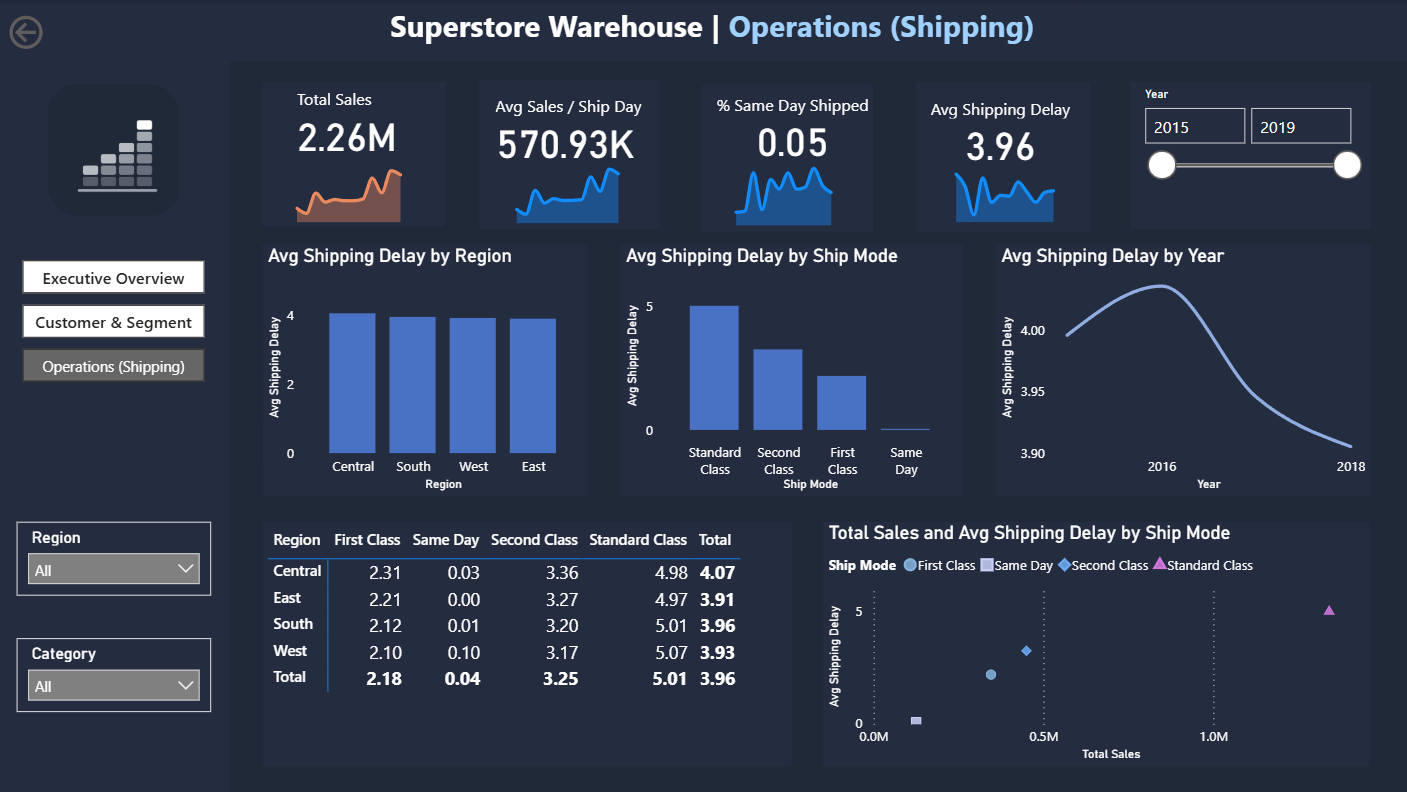

Layout of this report page (visuals, bound fields, positions):
{"tool":"powerbi","page":{"name":"Operations (Shipping)","canvas":[1280,720],"ordinal":2},"visuals":[{"type":"shape","box":[0,51.1,210,668.3],"z":0},{"type":"shape","box":[435.9,72.4,163,134.5],"z":0,"group":"g2"},{"type":"shape","box":[831.7,73.8,157.3,136],"z":0,"group":"g4"},{"type":"shape","box":[239,74.4,165.4,130.6],"z":0,"group":"g5"},{"type":"shape","box":[637.6,76.4,154.5,133.4],"z":0,"group":"g3"},{"type":"group","id":"g1","title":"Group 3","box":[0,0,1287.1,55.7],"z":1000},{"type":"shape","box":[0,0,1287.1,55.7],"z":1000,"group":"g1"},{"type":"cardVisual","fields":{"Data":["fact_sales.Total Sales"]},"box":[257.4,71.2,129.3,80.4],"z":1000,"group":"g5"},{"type":"cardVisual","fields":{"Data":["fact_sales.% Same Day Shipped"]},"box":[631.9,73.8,166,85],"z":1000,"group":"g3"},{"type":"cardVisual","fields":{"Data":["fact_sales.Avg Sales per Shipping Day"]},"box":[437.3,77.8,160.3,79.1],"z":1000,"group":"g2"},{"type":"cardVisual","fields":{"Data":["fact_sales.Avg Shipping Delay"]},"box":[828.5,77.8,149.9,83.3],"z":1000,"group":"g4"},{"type":"textbox","box":[350.7,0,629,55.4],"z":2000,"group":"g1"},{"type":"areaChart","fields":{"Category":["dim_date.month"],"Y":["fact_sales.Avg Shipping Delay"]},"box":[844.4,130.3,150.1,76.2],"z":2000,"group":"g4"},{"type":"areaChart","fields":{"Category":["dim_date.month"],"Y":["fact_sales.Avg Sales per Shipping Day"]},"box":[445.7,132,155.6,75.4],"z":2000,"group":"g2"},{"type":"areaChart","fields":{"Category":["dim_date.month"],"Y":["fact_sales.Total Sales"]},"box":[247.4,133.6,157.9,73.2],"z":2000,"group":"g5"},{"type":"areaChart","fields":{"Category":["dim_date.month"],"Y":["fact_sales.% Same Day Shipped"]},"box":[645.1,134.5,147.5,74.8],"z":2000,"group":"g3"},{"type":"columnChart","fields":{"Category":["dim_location.Region"],"Y":["fact_sales.Avg Shipping Delay"]},"box":[239,221.6,294.4,228],"z":2000},{"type":"columnChart","fields":{"Category":["fact_sales.Ship Mode"],"Y":["fact_sales.Avg Shipping Delay"]},"box":[563.6,221.3,310.3,228],"z":3000},{"type":"scatterChart","fields":{"Series":["fact_sales.Ship Mode"],"X":["fact_sales.Total Sales"],"Y":["fact_sales.Avg Shipping Delay"]},"box":[747.1,472.5,495.5,221.5],"z":4000},{"type":"slicer","fields":{"Values":["dim_location.Region"]},"box":[16.9,472.5,176,66.7],"z":5000},{"type":"slicer","fields":{"Values":["dim_date.year"]},"box":[1025.6,74.2,217.4,132.8],"z":6000},{"type":"slicer","fields":{"Values":["dim_product.Category"]},"box":[16.9,577.9,176,66.7],"z":7000},{"type":"pageNavigator","box":[22.1,235.6,165.7,110],"z":8000},{"type":"group","id":"g2","title":"Group 1","box":[435.9,72.4,166.1,136.3],"z":9000},{"type":"group","id":"g3","title":"Group 1","box":[631.9,73.8,166.1,136.3],"z":10000},{"type":"group","id":"g4","title":"Group 1","box":[828.5,73.8,166.1,136.3],"z":11000},{"type":"group","id":"g5","title":"Group 2","box":[239,71.2,166,136],"z":12000},{"type":"actionButton","box":[5.7,8.5,100,40],"z":13000},{"type":"pivotTable","fields":{"Columns":["fact_sales.Ship Mode"],"Rows":["dim_location.Region"],"Values":["fact_sales.Avg Shipping Delay"]},"box":[239.5,472.5,479,221.3],"z":14000},{"type":"lineChart","fields":{"Category":["dim_date.year"],"Y":["fact_sales.Avg Shipping Delay"]},"box":[903.3,221.3,339.7,227.8],"z":15000},{"type":"image","box":[29.9,71.6,149.7,128.9],"z":16000}]}

Visuals, with their boxes in screenshot pixels (x1, y1, x2, y2), scaled from the page's 1280x720 canvas onto the 1407x792 screenshot:
shape: l=0, t=56, r=231, b=791
shape: l=479, t=80, r=658, b=228
shape: l=914, t=81, r=1087, b=231
shape: l=263, t=82, r=445, b=226
shape: l=701, t=84, r=871, b=231
"Group 3" group: l=0, t=0, r=1406, b=61
shape: l=0, t=0, r=1406, b=61
cardVisual - fact_sales.Total Sales: l=283, t=78, r=425, b=167
cardVisual - fact_sales.% Same Day Shipped: l=695, t=81, r=877, b=175
cardVisual - fact_sales.Avg Sales per Shipping Day: l=481, t=86, r=657, b=173
cardVisual - fact_sales.Avg Shipping Delay: l=911, t=86, r=1075, b=177
textbox: l=385, t=0, r=1077, b=61
areaChart - dim_date.month x fact_sales.Avg Shipping Delay: l=928, t=143, r=1093, b=227
areaChart - dim_date.month x fact_sales.Avg Sales per Shipping Day: l=490, t=145, r=661, b=228
areaChart - dim_date.month x fact_sales.Total Sales: l=272, t=147, r=446, b=227
areaChart - dim_date.month x fact_sales.% Same Day Shipped: l=709, t=148, r=871, b=230
columnChart - dim_location.Region x fact_sales.Avg Shipping Delay: l=263, t=244, r=586, b=495
columnChart - fact_sales.Ship Mode x fact_sales.Avg Shipping Delay: l=620, t=243, r=961, b=494
scatterChart - fact_sales.Ship Mode x fact_sales.Total Sales: l=821, t=520, r=1366, b=763
slicer - dim_location.Region: l=19, t=520, r=212, b=593
slicer - dim_date.year: l=1127, t=82, r=1366, b=228
slicer - dim_product.Category: l=19, t=636, r=212, b=709
pageNavigator: l=24, t=259, r=206, b=380
"Group 1" group: l=479, t=80, r=662, b=230
"Group 1" group: l=695, t=81, r=877, b=231
"Group 1" group: l=911, t=81, r=1093, b=231
"Group 2" group: l=263, t=78, r=445, b=228
actionButton: l=6, t=9, r=116, b=53
pivotTable - fact_sales.Ship Mode x dim_location.Region: l=263, t=520, r=790, b=763
lineChart - dim_date.year x fact_sales.Avg Shipping Delay: l=993, t=243, r=1366, b=494
image: l=33, t=79, r=197, b=221
